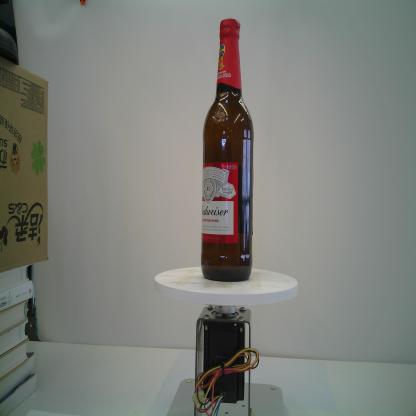Alcohol: (198, 15, 256, 284)
